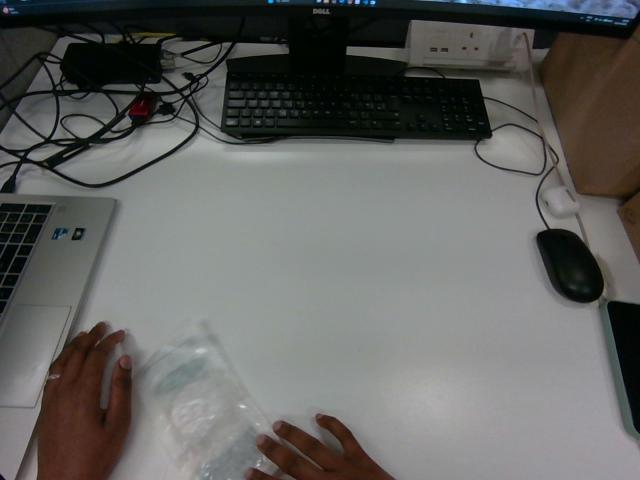gallipot: (137, 328, 272, 479)
